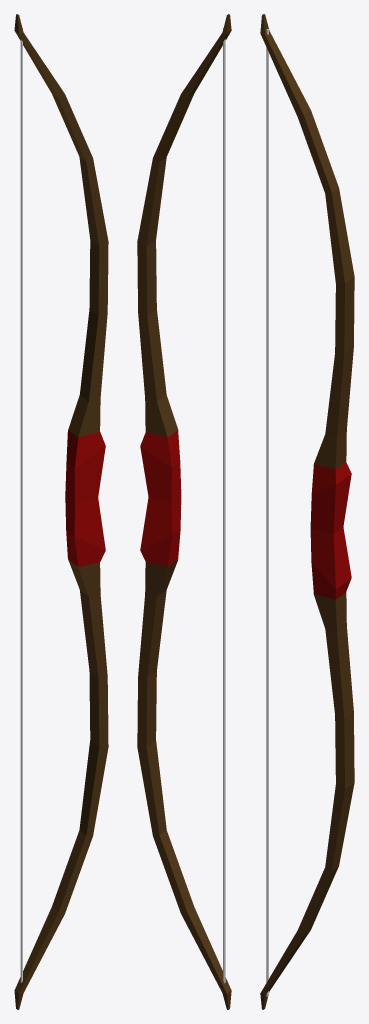
File: FirstBow 1.fbx
3 renders of one model, left to right at view 1: azimuth 30°, elevation 25°; view 2: azimuth 150°, elevation 25°; view 3: azimuth 330°, elevation 25°, orthographic.
Parts seen in each view (by area): view 1: Bow, Handle, String; view 2: Bow, Handle, String; view 3: Bow, Handle, String.
Part boxes in pixels (x1,y1,x2,y2): Bow: (14,14,108,1009); Handle: (65,430,105,566); String: (20,27,22,982); Bow: (137,14,231,1009); Handle: (140,430,181,566); String: (223,28,225,983); Bow: (260,14,354,1009); Handle: (310,462,351,599); String: (266,29,268,996).
Bounding box in the file's own units: 13.28 × 145 × 4.18.
